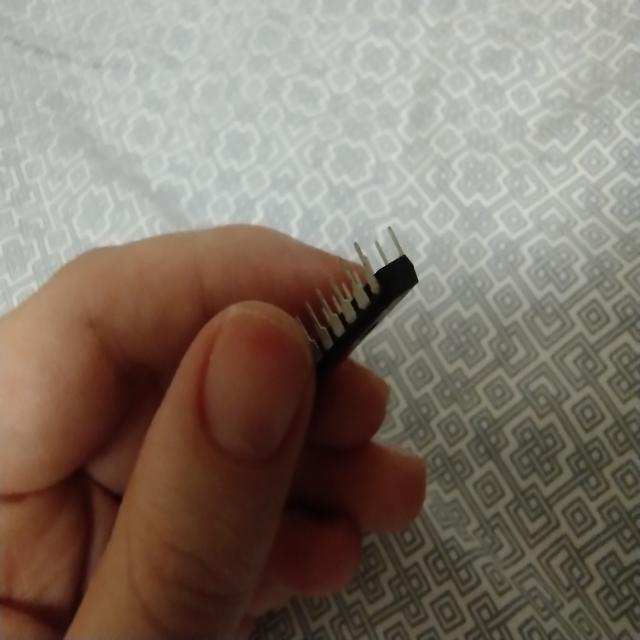atmega: (292, 222, 421, 378)
